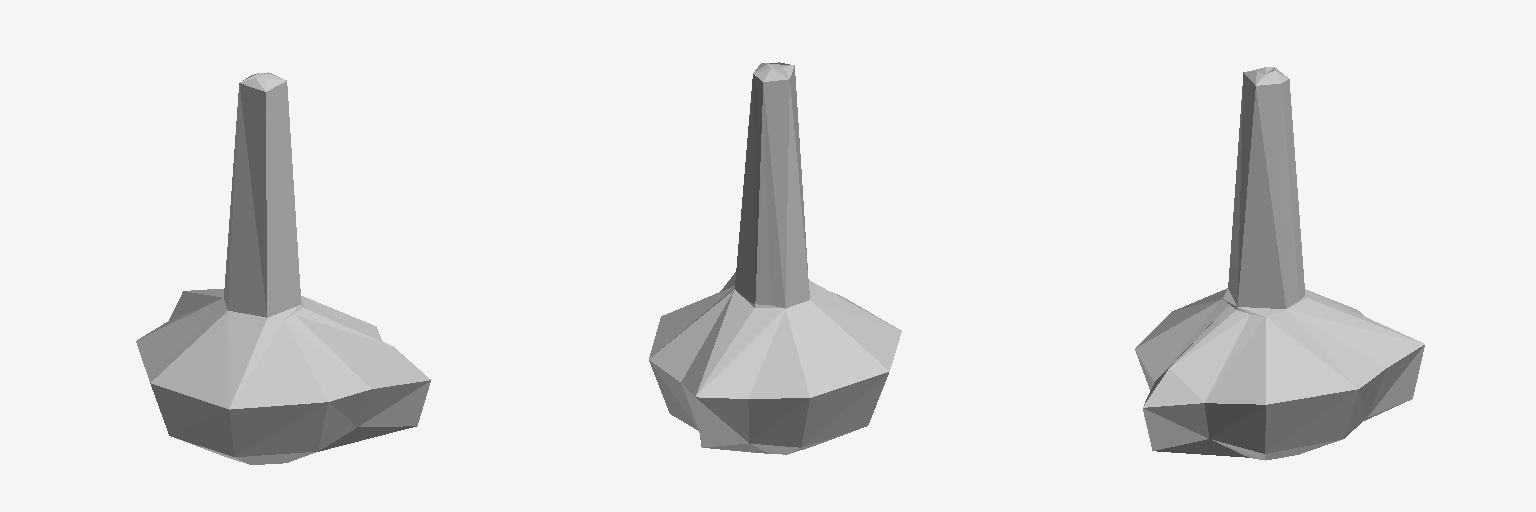
The model's file is stumpLo.obj.
The picture shows the model from 3 angles: view 1: azimuth 30°, elevation 25°; view 2: azimuth 150°, elevation 25°; view 3: azimuth 270°, elevation 25°; orthographic projection.
Visible parts, largest first — view 1: Cylinder1_default; view 2: Cylinder1_default; view 3: Cylinder1_default.
Boxes of the visible parts, <box> form: Cylinder1_default: <box>136,72,430,464</box>; Cylinder1_default: <box>649,62,901,454</box>; Cylinder1_default: <box>1135,67,1424,460</box>.
Bounding box in the file's own units: 1.89 × 2.94 × 2.09.